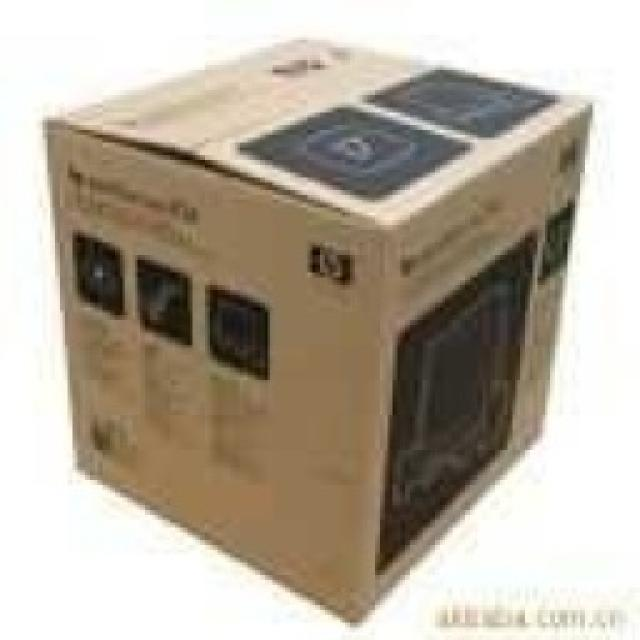box: (17, 21, 615, 633)
